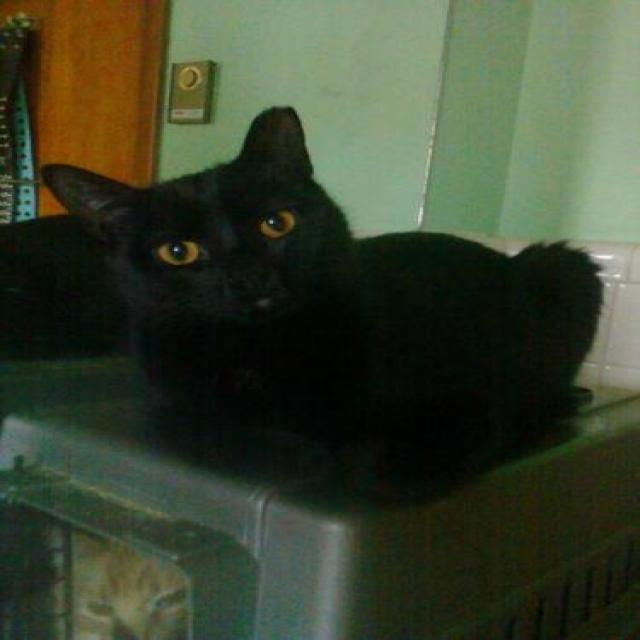bombay_cat: (26, 100, 385, 352)
